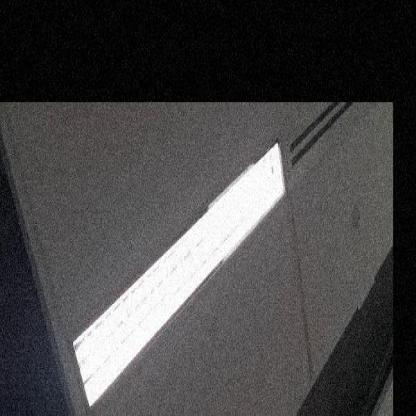light_on: (58, 124, 306, 415)
